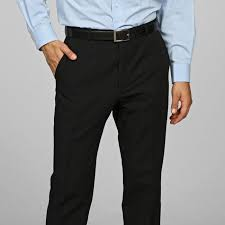F_belt: (55, 17, 170, 49)
F_dress pants: (46, 39, 169, 223)
